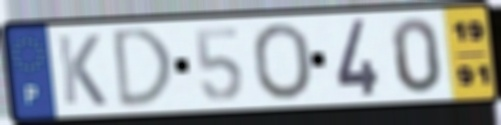0: (389, 14, 445, 97)
4: (332, 16, 381, 100)
5: (191, 25, 245, 104)
D: (111, 25, 176, 112)
K: (54, 32, 110, 108)
O: (249, 20, 316, 103)
